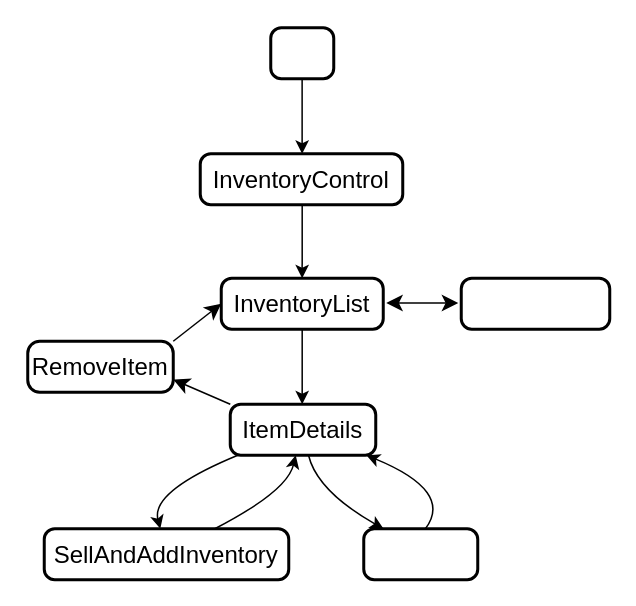
This 636x606 diagram has some shape labels left out. Here are the shapes that lost their labels. From the top down, the box of each, then its label:
(268, 26, 334, 80): App
(459, 276, 610, 330): AddNewItem
(362, 526, 478, 580): Update
